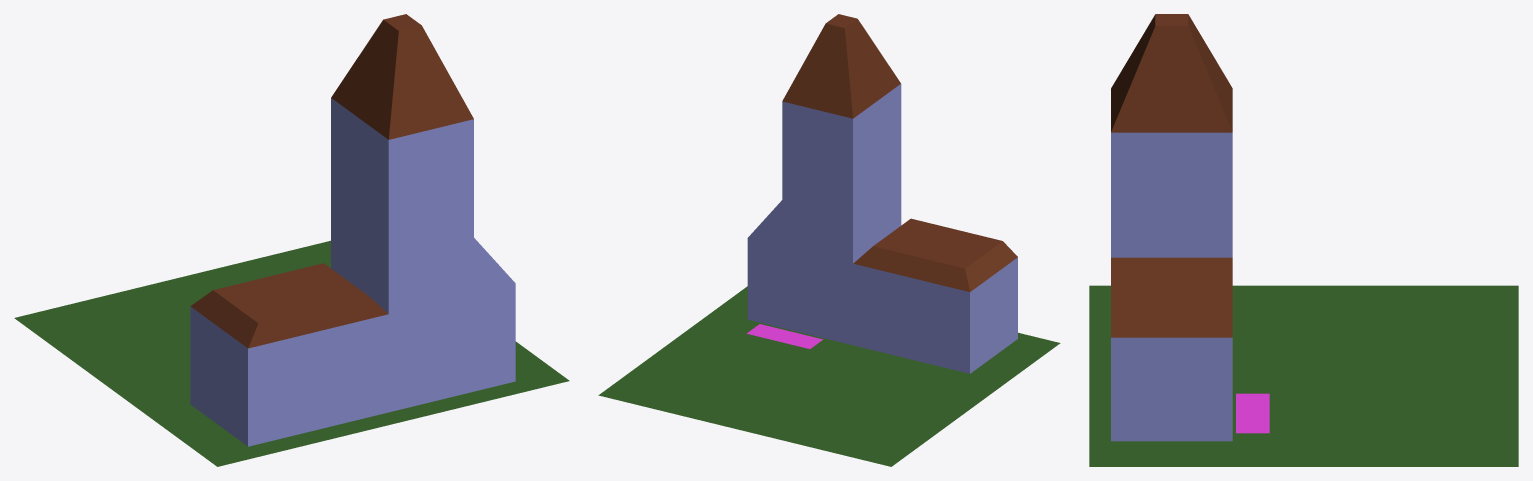
The model's file is building.glb.
3 renders of one model, left to right at view 1: azimuth 30°, elevation 25°; view 2: azimuth 150°, elevation 25°; view 3: azimuth 270°, elevation 25°, orthographic. The views are drawn at different scales.
Parts seen in each view (by area): view 1: House, Floor; view 2: House, Floor, Floor.001; view 3: Floor, House, Floor.001.
Part boxes in pixels (<box>): House: <box>190,14,515,446</box>; Floor: <box>14,240,569,466</box>; House: <box>747,14,1017,373</box>; Floor: <box>598,286,1060,466</box>; Floor.001: <box>747,324,822,348</box>; Floor: <box>1089,285,1518,466</box>; House: <box>1111,14,1232,441</box>; Floor.001: <box>1236,393,1269,433</box>.
Size of the model in its own units: 6 by 5.87 by 6.
